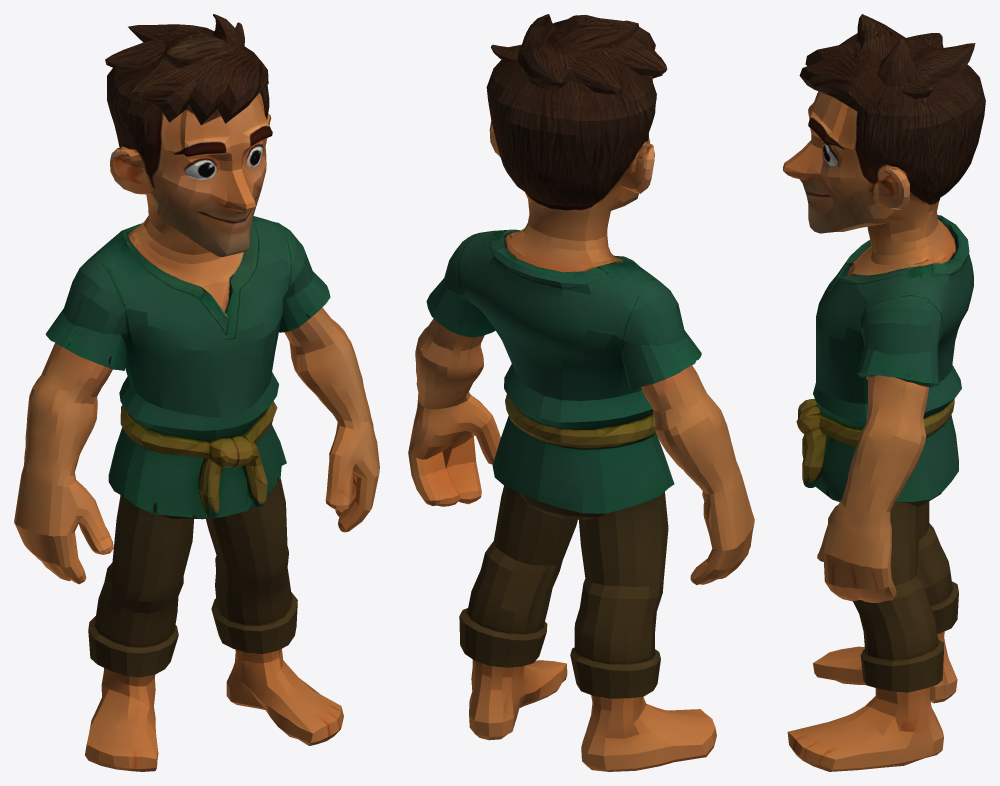
Rendered from base_basic_pbr.fbx.
3 views of the same model, side by side, from view 1: azimuth 30°, elevation 25°; view 2: azimuth 150°, elevation 25°; view 3: azimuth 270°, elevation 25° (orthographic). The views are drawn at different scales.
Visible parts, largest first — view 1: model; view 2: model; view 3: model.
Boxes of the visible parts, x1,y1,x2,y2 form: model: (14,14,379,771); model: (408,14,754,771); model: (783,14,985,771).
Size of the model in its own units: 95 by 190 by 50.47.
1 material, 1 textured.
